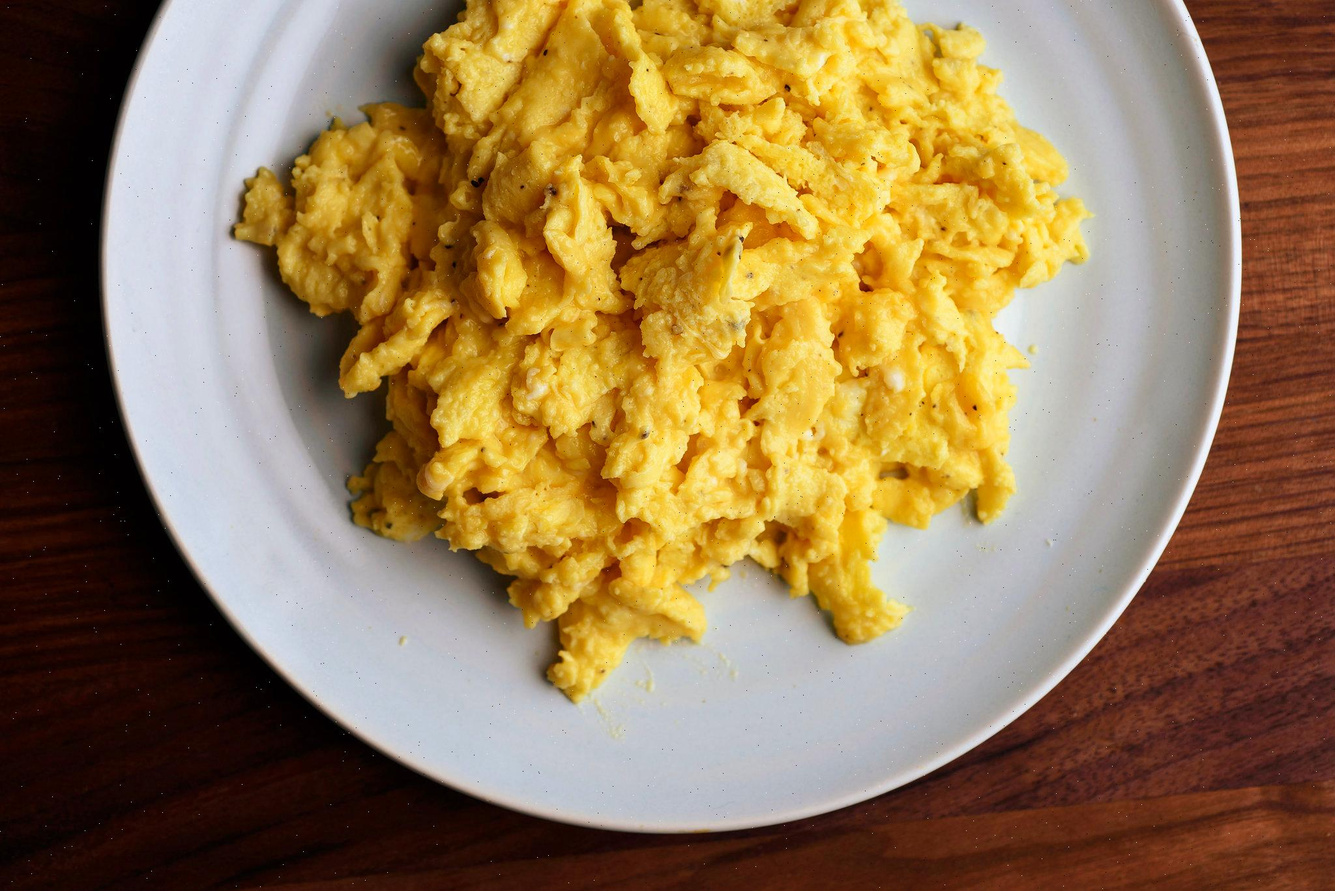eggs: (320, 5, 1046, 630)
